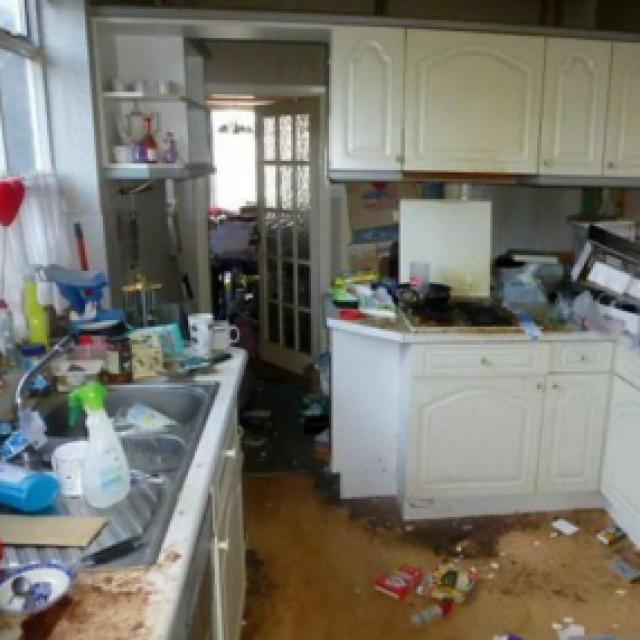mess: (0, 215, 199, 640), (329, 192, 640, 356)
